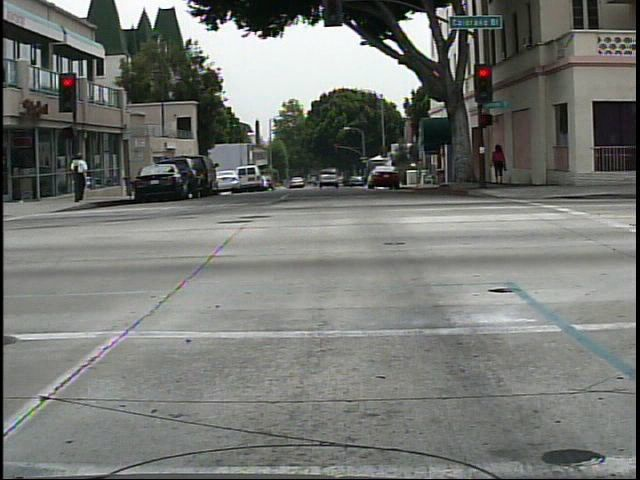person: (64, 146, 92, 208), (484, 137, 514, 190)
